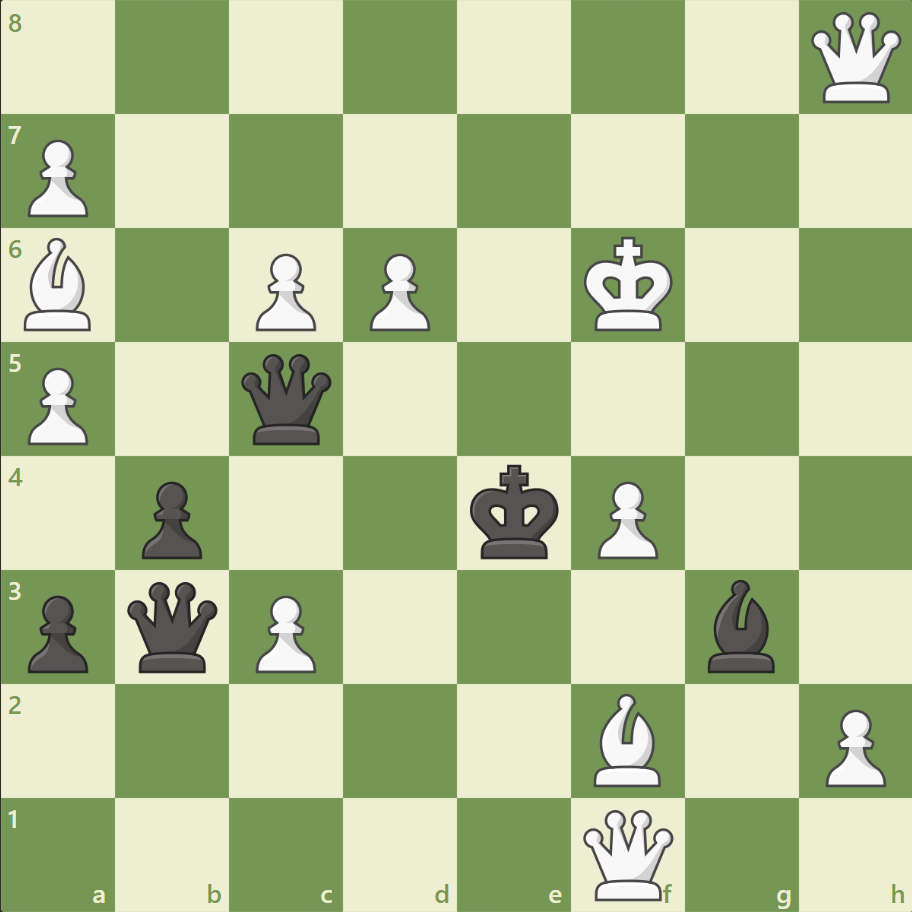B: (17, 233, 101, 336), (585, 687, 669, 790)
K: (579, 231, 679, 339)
P: (20, 132, 95, 223), (247, 246, 322, 337), (20, 359, 95, 450), (247, 586, 322, 677), (361, 246, 435, 337), (588, 473, 662, 564), (815, 700, 889, 791)
Q: (805, 9, 904, 108), (578, 804, 677, 903)
b: (698, 574, 782, 676)
k: (465, 458, 565, 566)
p: (133, 473, 208, 564), (20, 586, 95, 677)
q: (237, 349, 336, 449), (124, 576, 223, 676)
